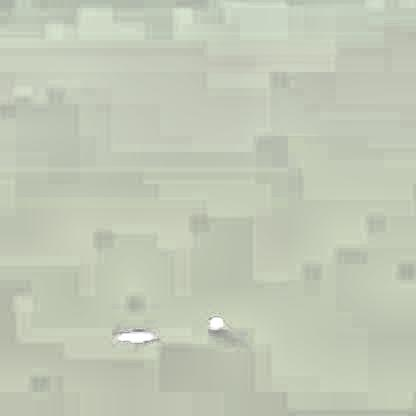golfball: (207, 314, 223, 329)
